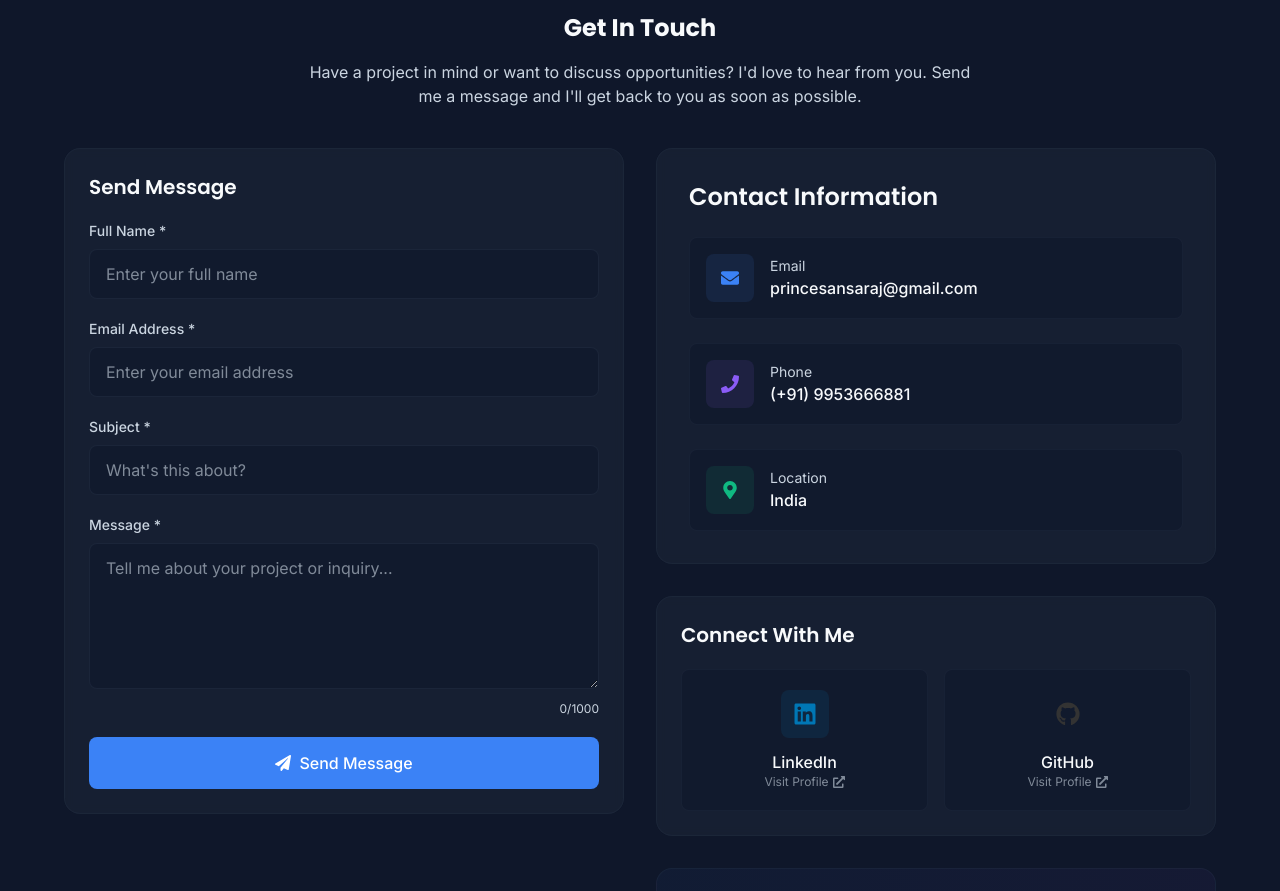
Test: Contact Component › handles form submission error
Note: Fill out the form
Type "John Doe" into the field labelled "Full Name *" at (344, 274), box [89, 249, 599, 299]
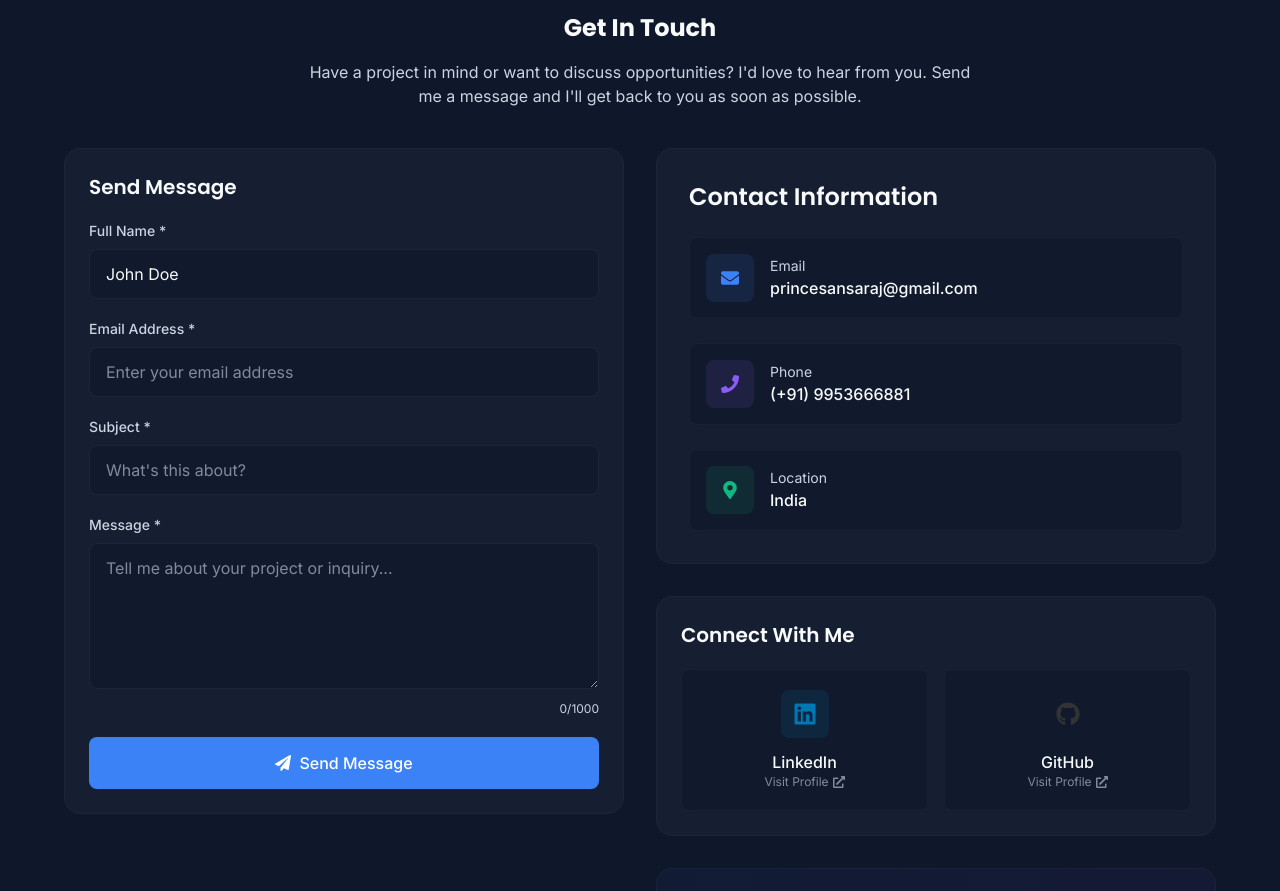
Type "john@example.com" into the field labelled "Email Address *" at (344, 372), box [89, 347, 599, 397]
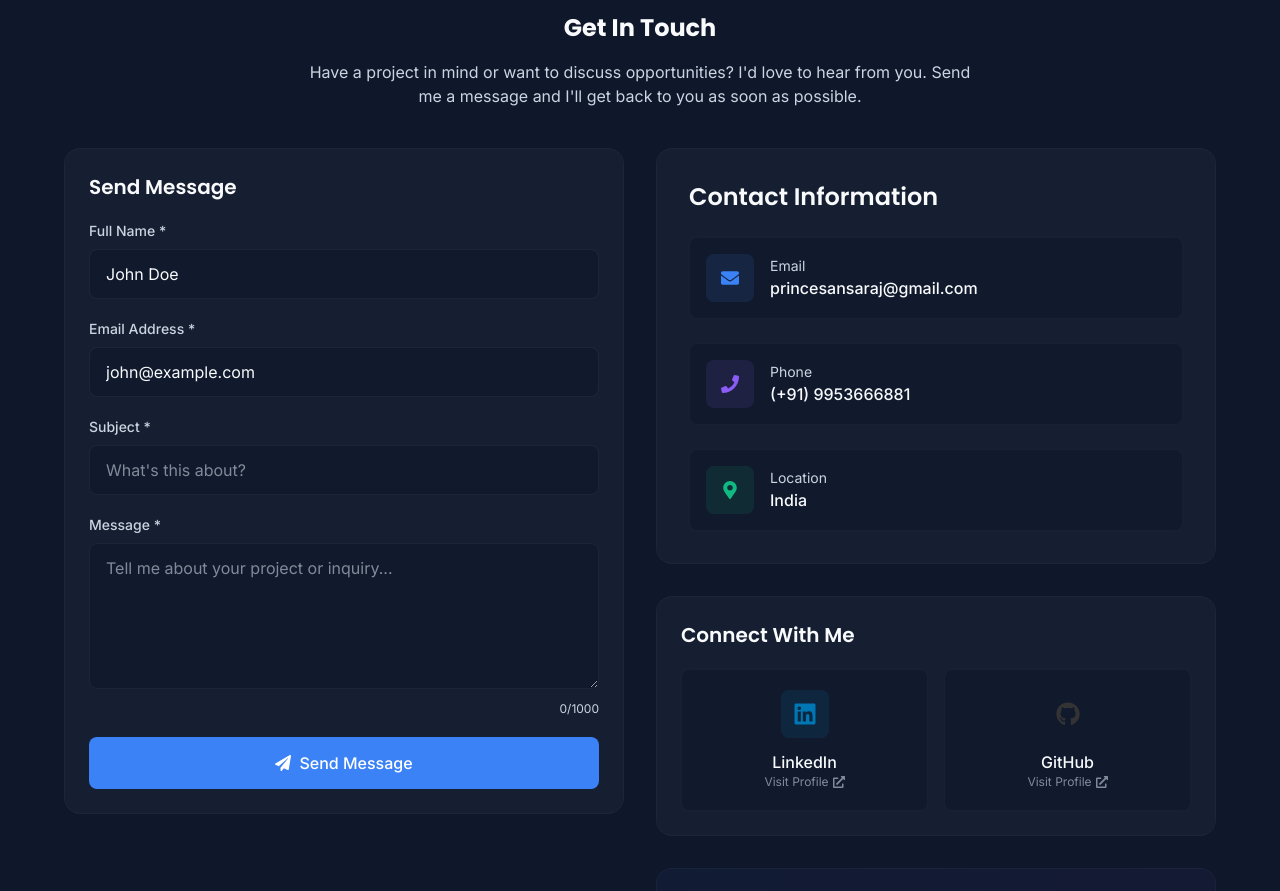
Type "Test Subject" into the field labelled "Subject *" at (344, 470), box [89, 445, 599, 495]
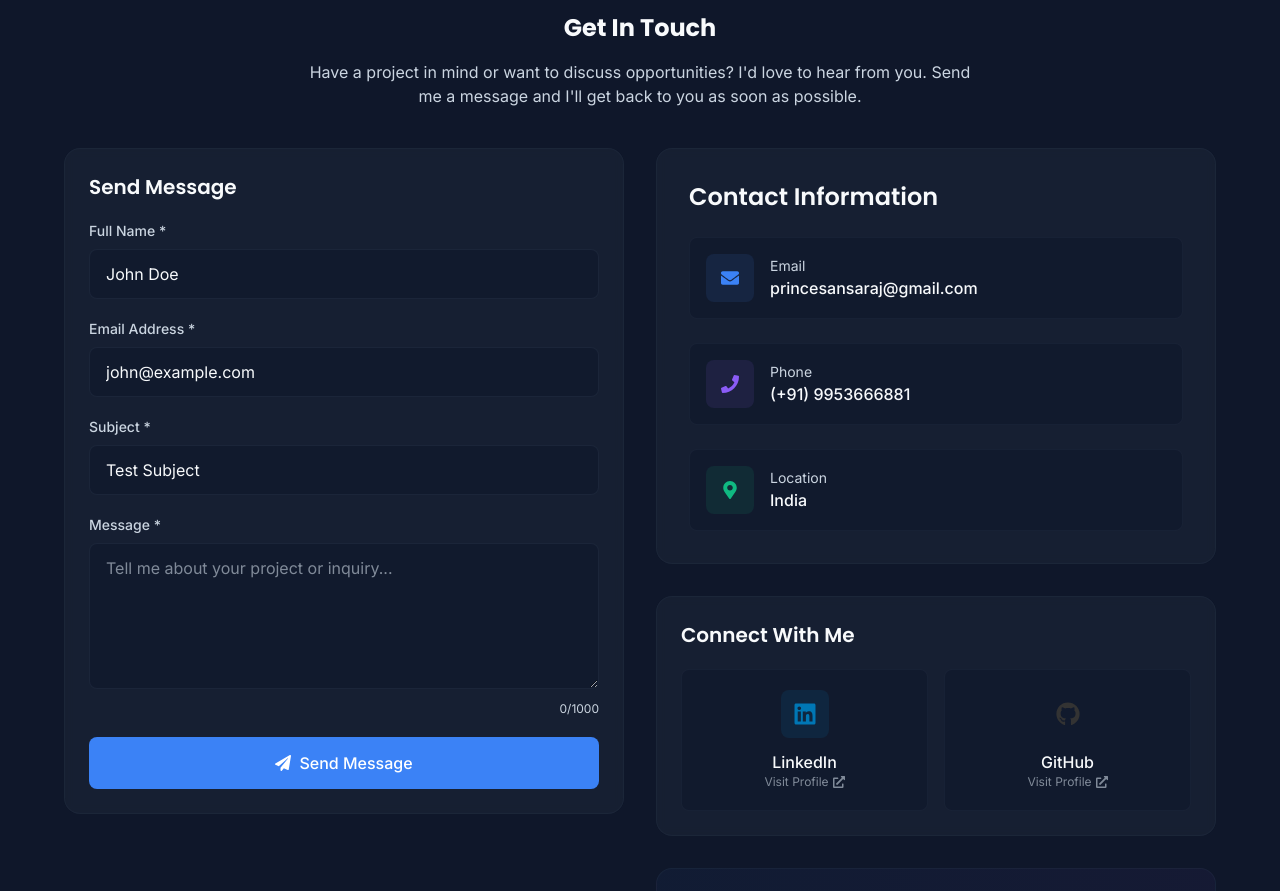
Type "This is a test message." into the text box labelled "Message *" at (344, 616), box [89, 543, 599, 689]
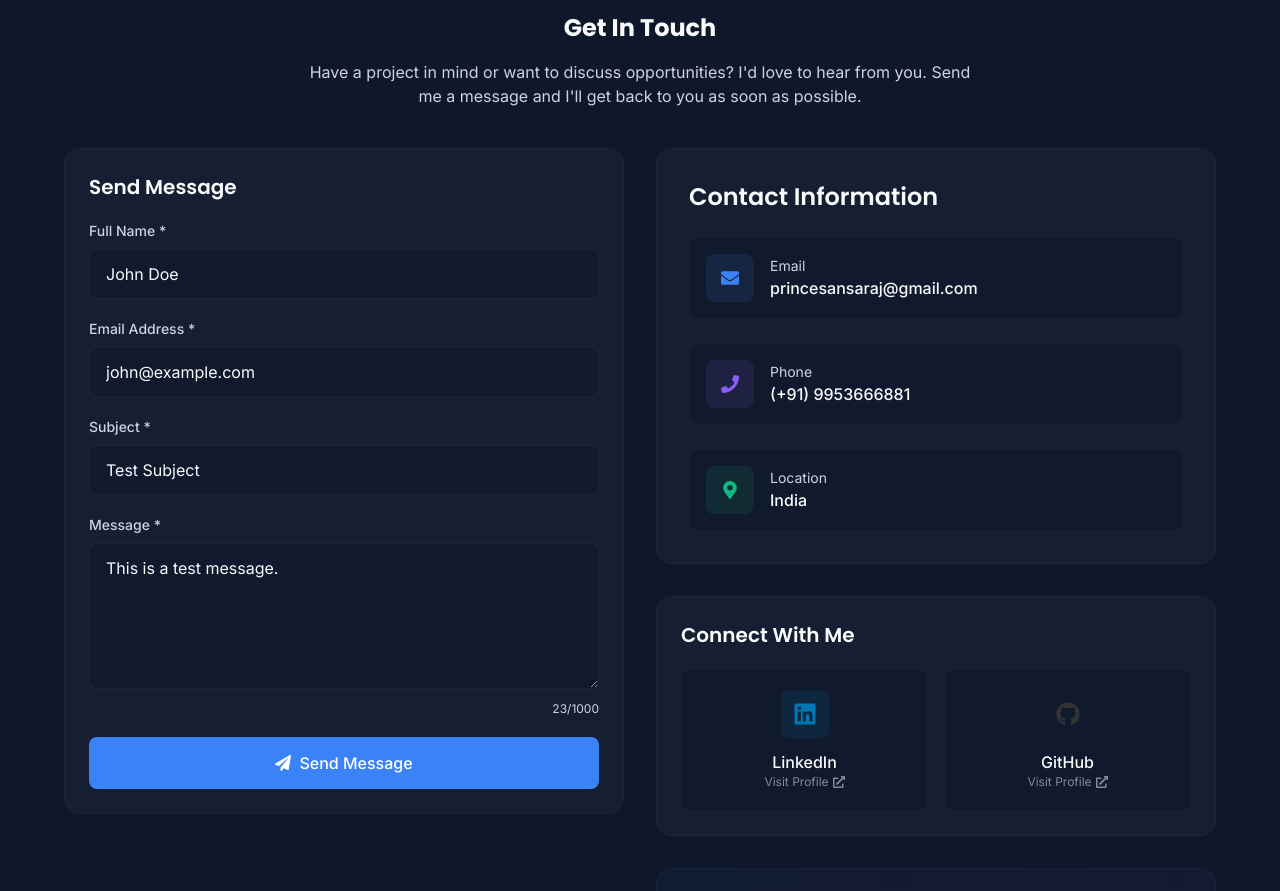
Note: Submit the form
Click the button "Send Message" at (344, 763), box [89, 737, 599, 789]
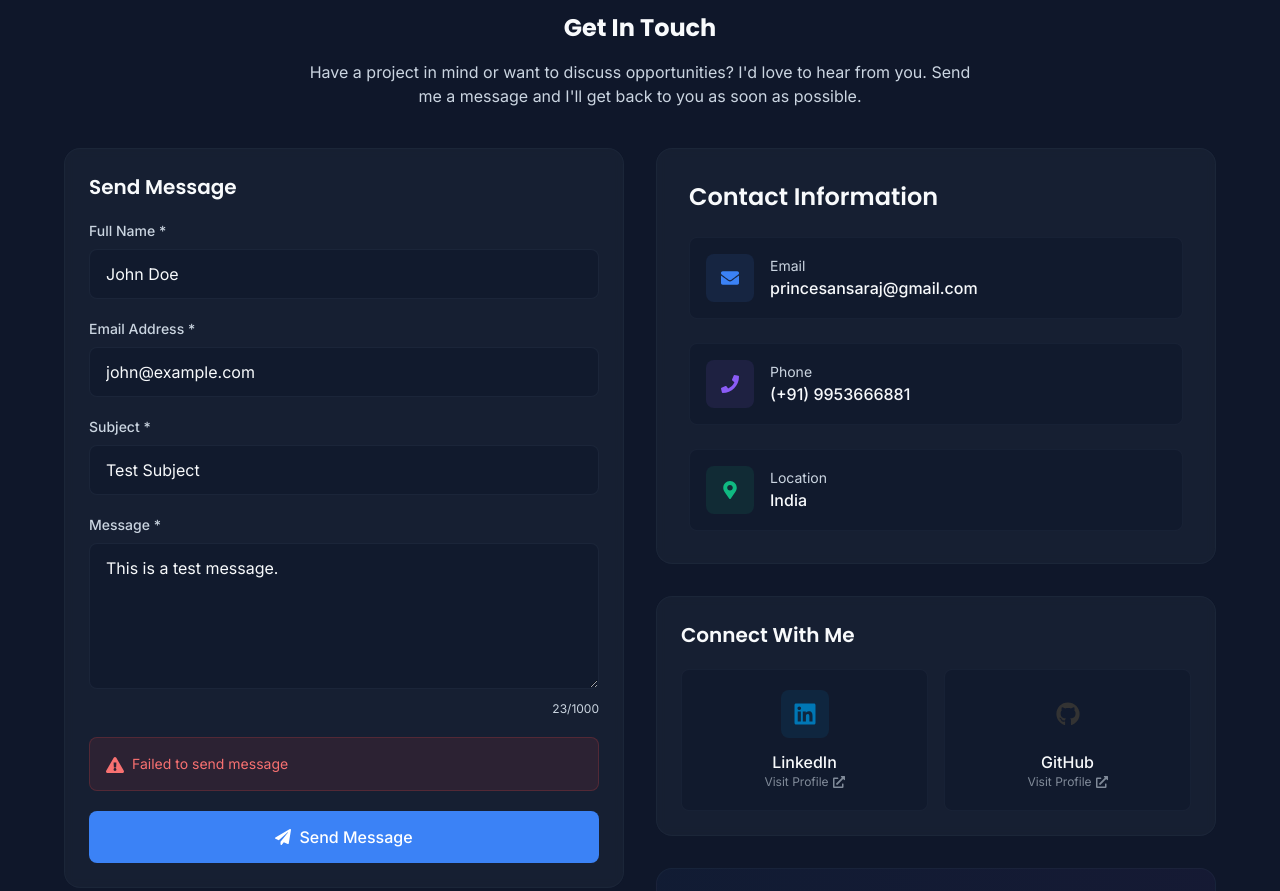
Expected: the text "Failed to send message" is shown, [132, 754, 288, 774]
